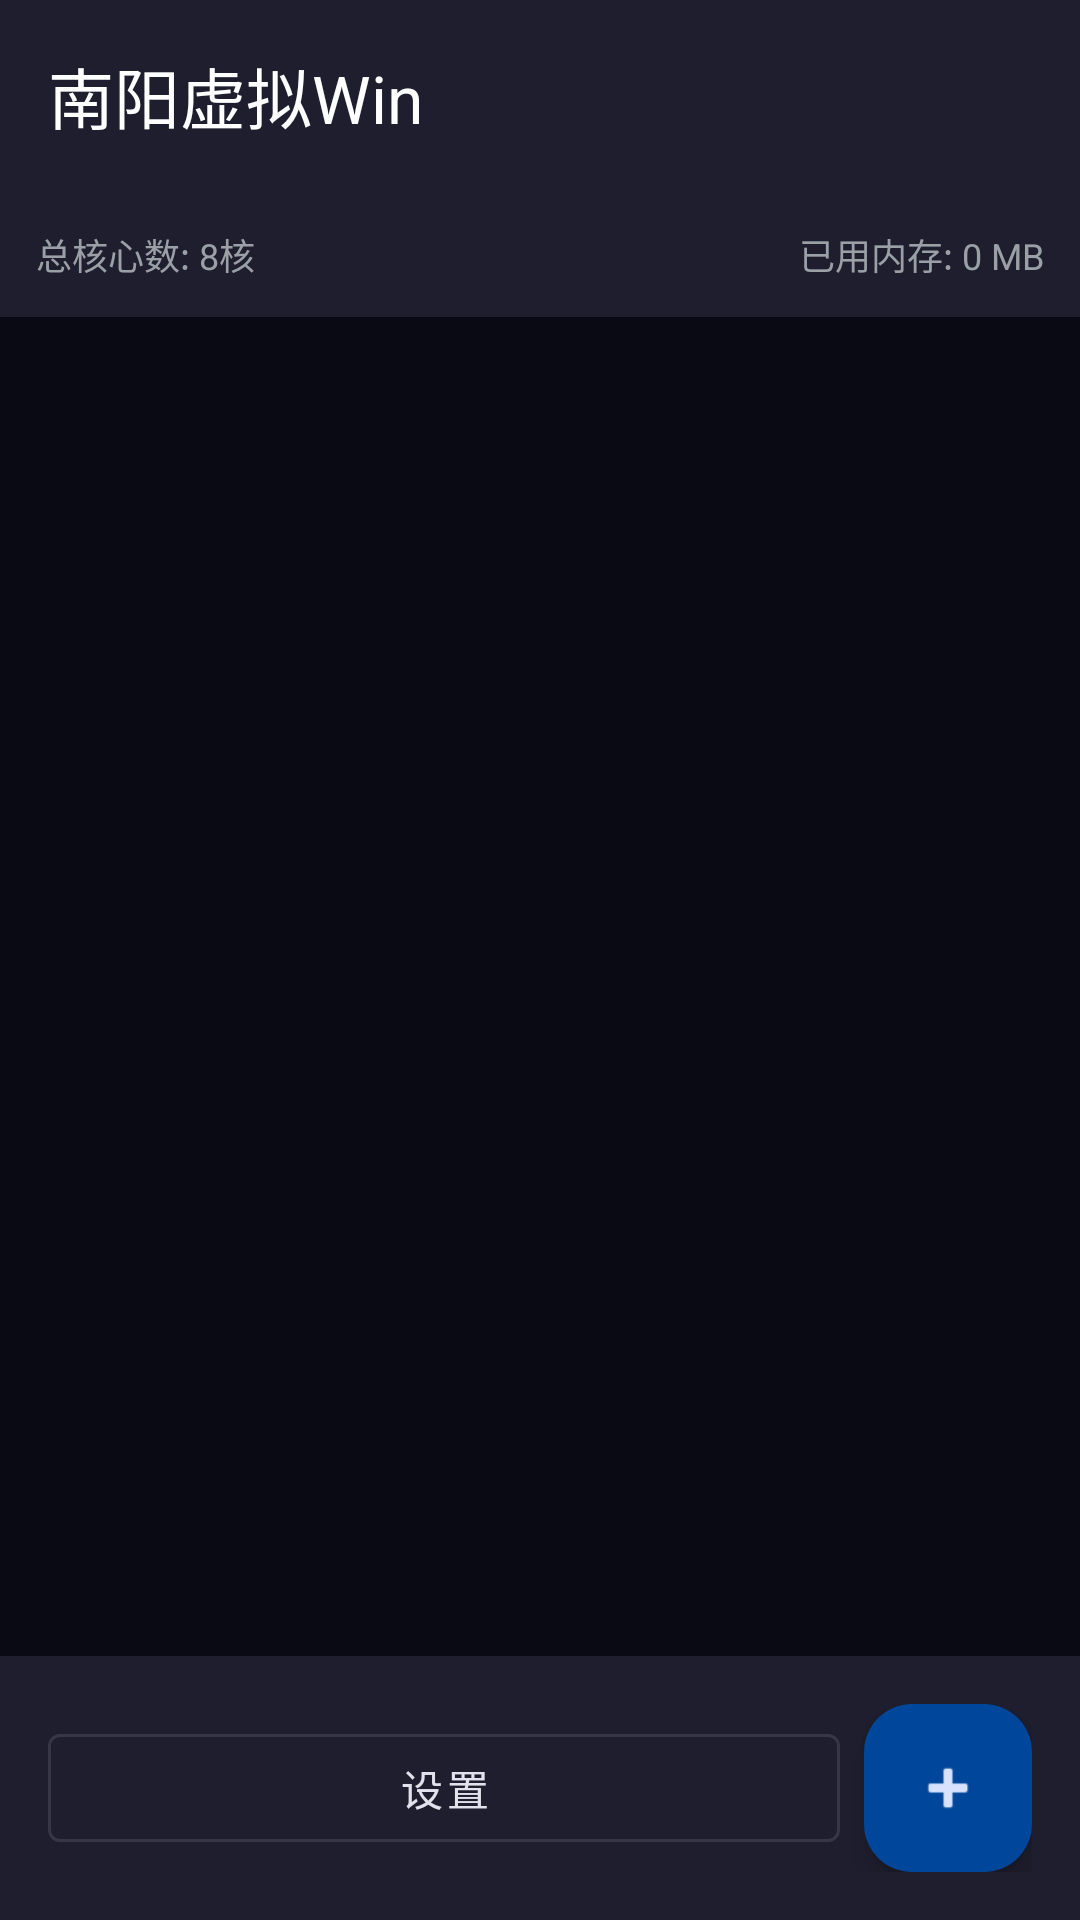

Locate icon controls on the screen. Image size 1080*1920, boxes as bbox=[x1, y1, x2, y2].
新建虚拟机: bbox=[864, 1704, 1032, 1872]
